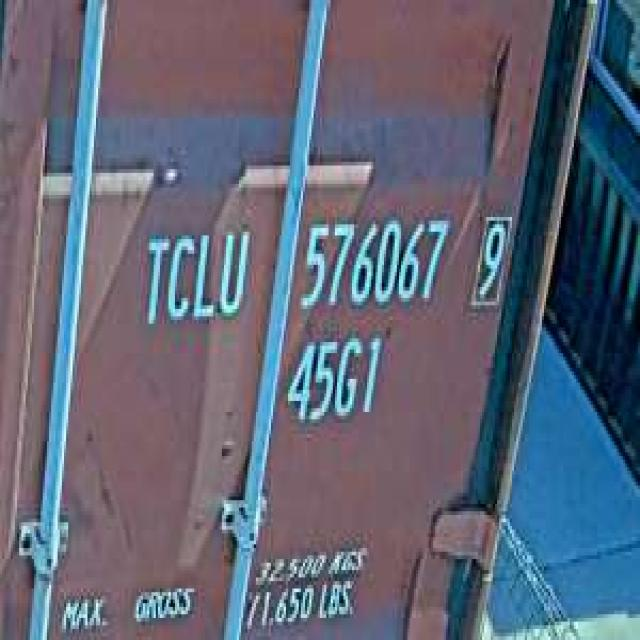dv: (469, 202, 512, 316)
owner: (141, 217, 252, 335)
serial: (295, 202, 450, 320)
size: (282, 327, 386, 434)
